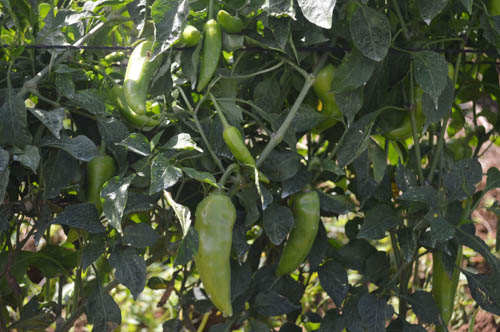ChiliPepper: (191, 196, 238, 319), (275, 191, 321, 282), (429, 245, 463, 327), (122, 42, 159, 115), (195, 19, 221, 99), (221, 125, 262, 172), (111, 88, 153, 131), (84, 158, 116, 210), (386, 109, 425, 147), (312, 66, 339, 110), (214, 10, 246, 30), (173, 25, 199, 46)
